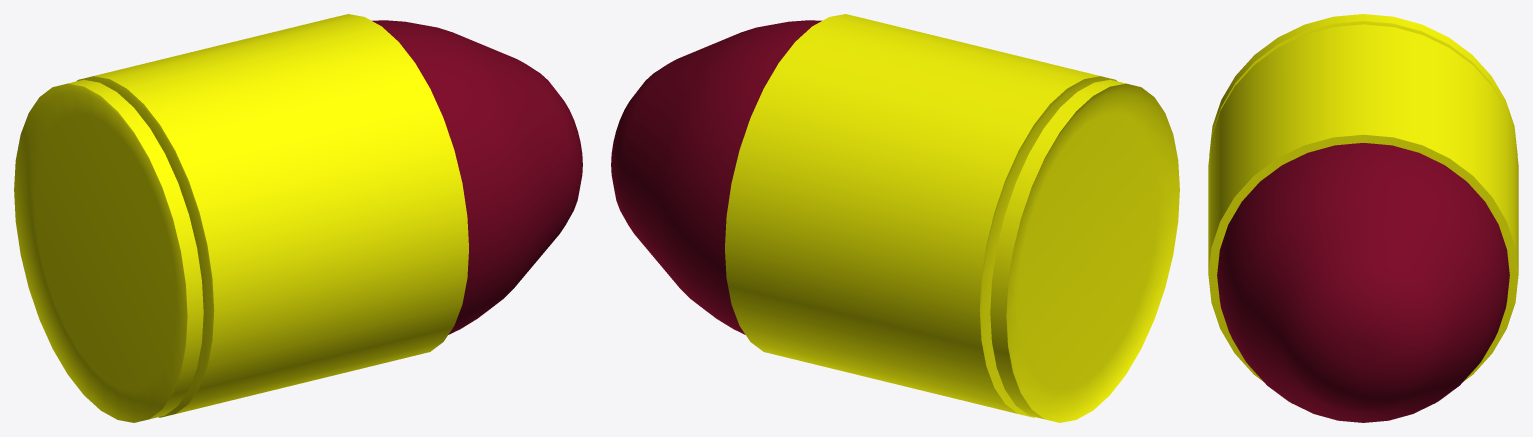
The model's file is bullet.fbx.
3 renders of one model, left to right at view 1: azimuth 30°, elevation 25°; view 2: azimuth 150°, elevation 25°; view 3: azimuth 270°, elevation 25°, orthographic. The views are drawn at different scales.
Parts seen in each view (by area): view 1: bulllet; view 2: bulllet; view 3: bulllet.
Part boxes in pixels (x1,y1,x2,y2): bulllet: [14, 14, 582, 422]; bulllet: [611, 14, 1179, 422]; bulllet: [1208, 14, 1518, 422].
Bounding box in the file's own units: 64.29 × 42 × 42.
